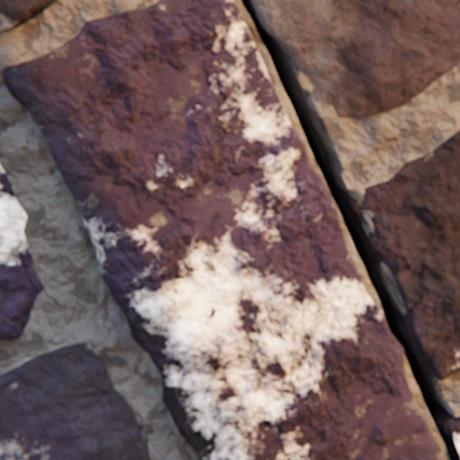brick: (5, 0, 441, 459), (356, 130, 459, 378), (251, 0, 459, 120), (0, 340, 150, 459), (0, 163, 45, 339), (0, 0, 58, 32), (446, 416, 459, 459)
crack: (242, 0, 457, 459), (408, 302, 418, 310), (418, 288, 421, 301)
